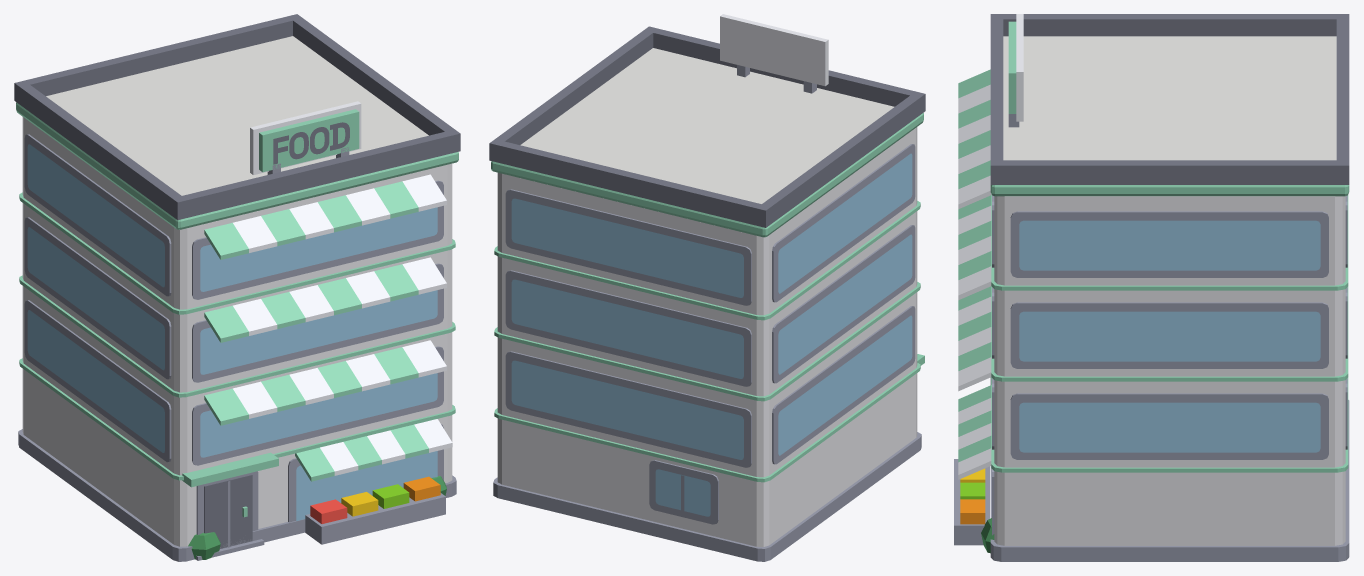
Rendered from shop-food-1x1-t4-tone-a.glb.
3 views of the same model, side by side, from view 1: azimuth 30°, elevation 25°; view 2: azimuth 150°, elevation 25°; view 3: azimuth 270°, elevation 25° (orthographic). The views are drawn at different scales.
Parts seen in each view (by area): view 1: shop-food-1x1-t4-tone-a; view 2: shop-food-1x1-t4-tone-a; view 3: shop-food-1x1-t4-tone-a.
Part boxes in pixels (left/top/right/bottom): shop-food-1x1-t4-tone-a: left=14, top=14, right=460, bottom=561; shop-food-1x1-t4-tone-a: left=489, top=14, right=925, bottom=561; shop-food-1x1-t4-tone-a: left=954, top=14, right=1349, bottom=561.
Size of the model in its own units: 1 by 1.36 by 1.1.
1 material, 1 textured.
